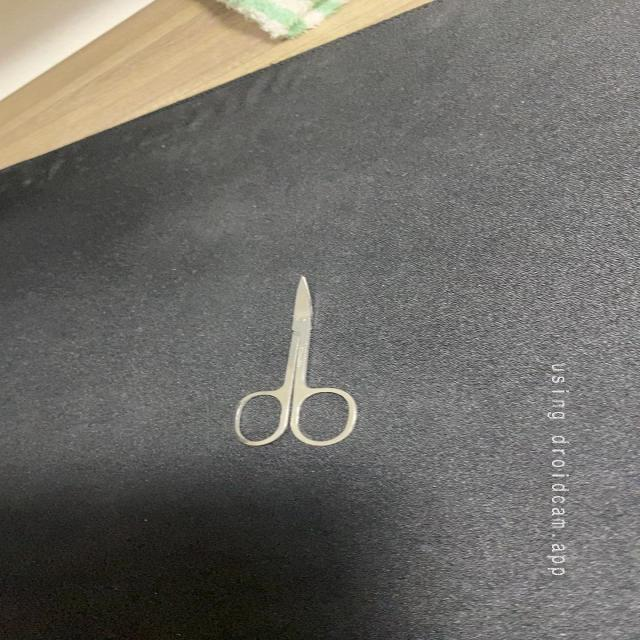scissor: (224, 269, 363, 450)
